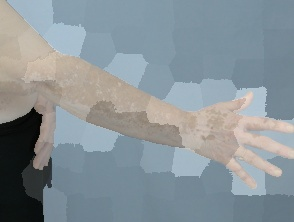vitiligo: (13, 16, 294, 204)
